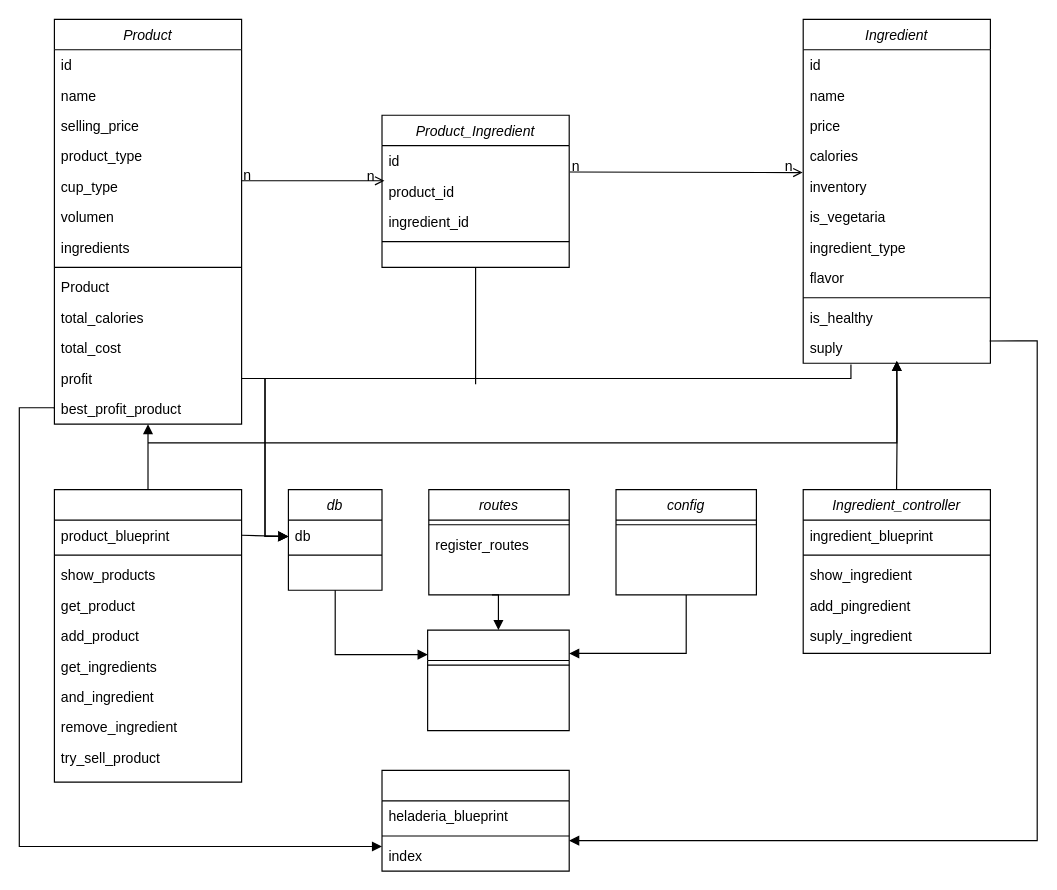
Some shapes in this 1057 by 890 pixel diagram are drawn without their labels. Each missing label, with the box of its shape:
__init__.py: (426, 629, 569, 731)
heladeria_controller: (381, 769, 569, 871)
Product_controller: (53, 488, 242, 782)
